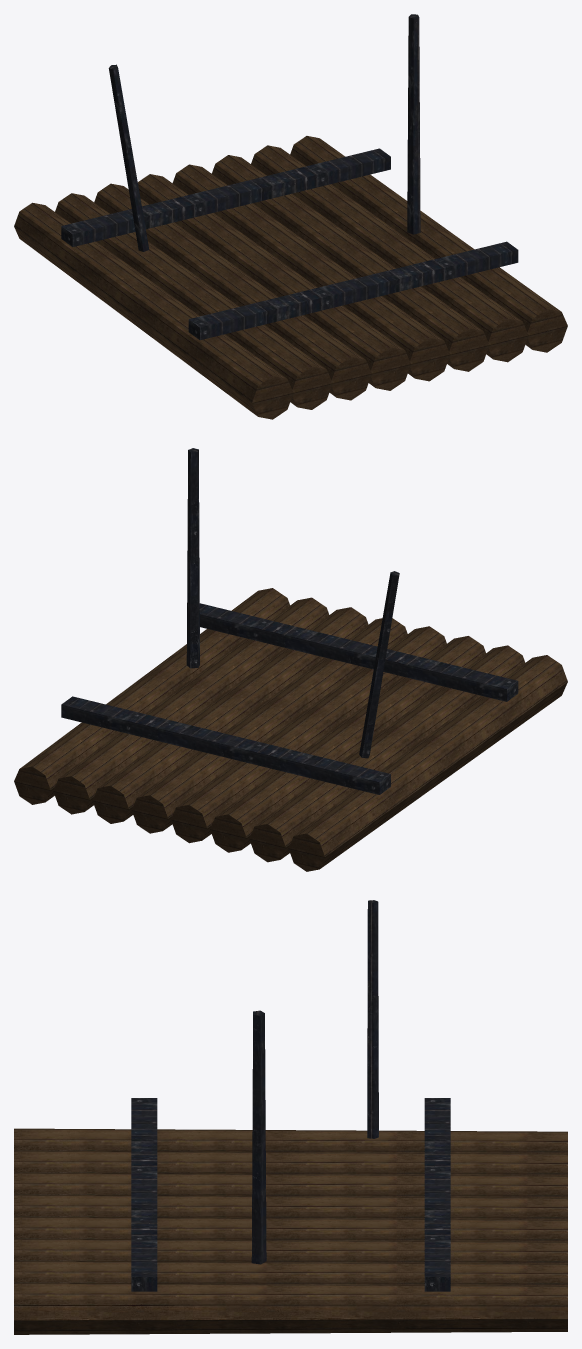
The model's file is raft_01.glb.
3 views of the same model, one above another, from view 1: azimuth 30°, elevation 25°; view 2: azimuth 150°, elevation 25°; view 3: azimuth 270°, elevation 25° (orthographic). The views are drawn at different scales.
Visible parts, largest first — view 1: raft_01; view 2: raft_01; view 3: raft_01.
Part boxes in pixels (x1,y1,x2,y2): raft_01: (14, 14, 567, 419); raft_01: (14, 448, 567, 871); raft_01: (14, 900, 567, 1334).
Size of the model in its own units: 2.6 by 2.07 by 3.4.
2 materials, 2 textured.
